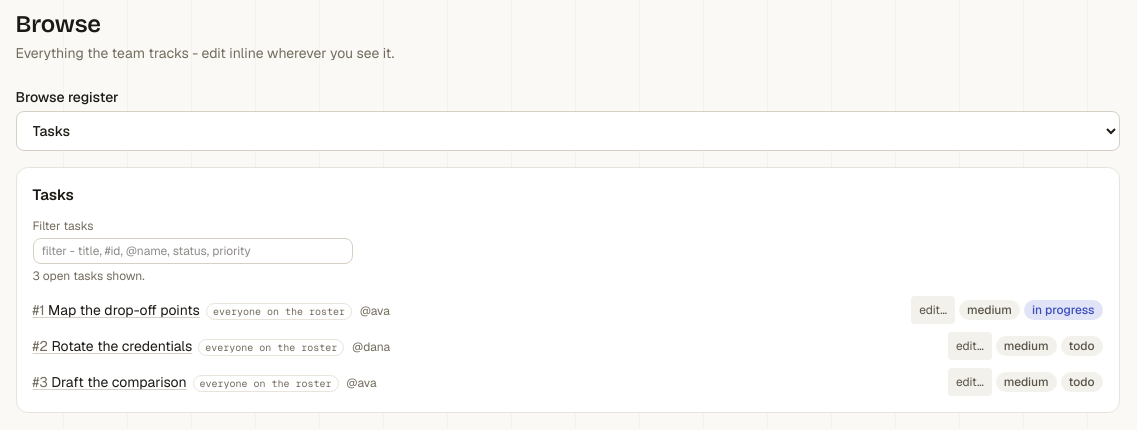
the Browse task filter › narrows by assignee and status, and says when nothing matches
Expected: the button "#1 Map the drop-off points" is shown, [32,300,200,320]
Type "@ava" into the field labelled "Filter tasks".
click(192, 251); type("@ava")  # box [32,238,352,264]
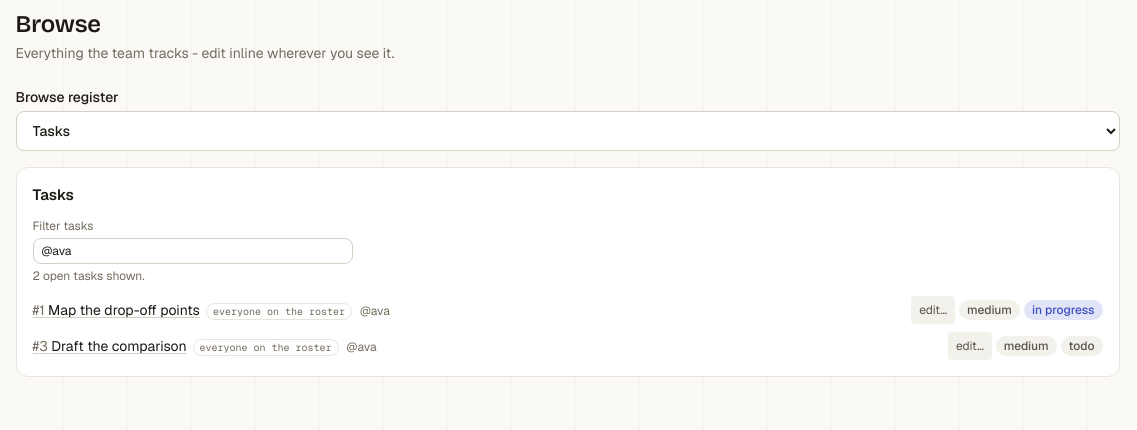
Expected: the button "#1 Map the drop-off points" is shown, [32,300,200,320]
Expected: the button "Rotate the credentials" is gone
Expected: the message reads "2 open tasks shown.", [32,268,145,284]
Replace the text in the field labelled "Filter tasks" with "in_progress" at {"x": 192, "y": 251}, box [32,238,352,264]
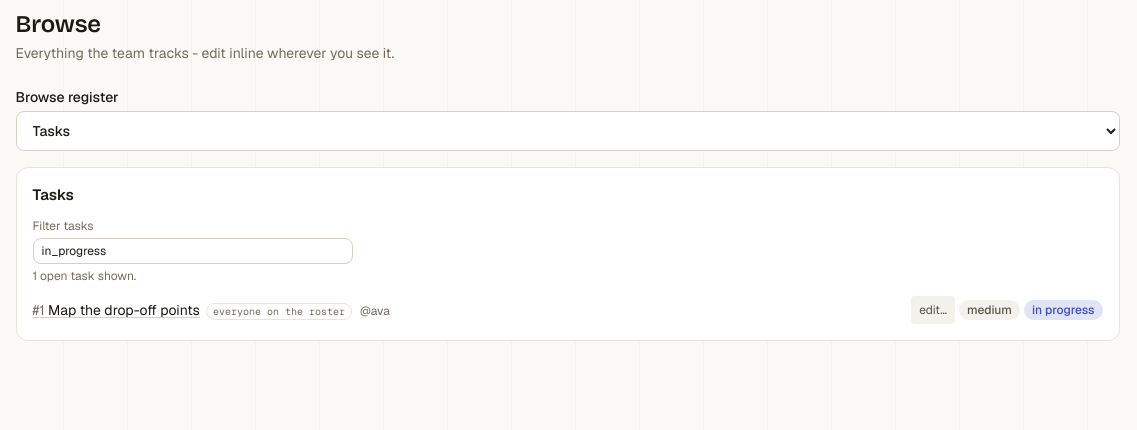
Expected: the button "#1 Map the drop-off points" is shown, [32,300,200,320]
Expected: the button "Draft the comparison" is gone
Replace the text in the field labelled "Filter tasks" with "zz-nothing" at {"x": 192, "y": 251}, box [32,238,352,264]
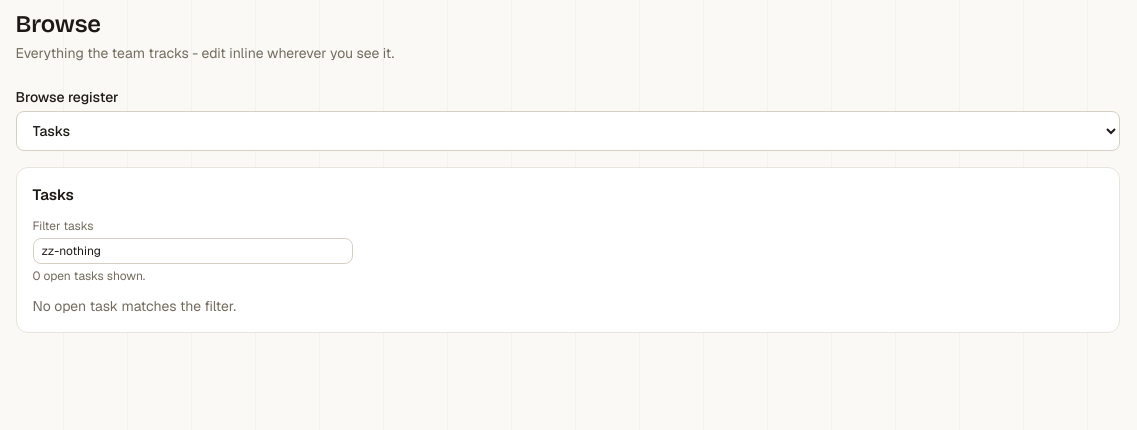
Expected: the text "No open task matches the filter." is shown, [32,297,236,315]
Expected: the message reads "0 open tasks shown.", [32,268,145,284]
